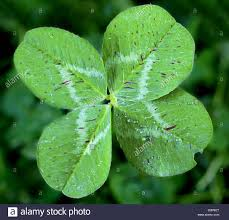4-clover: (15, 4, 213, 198)
